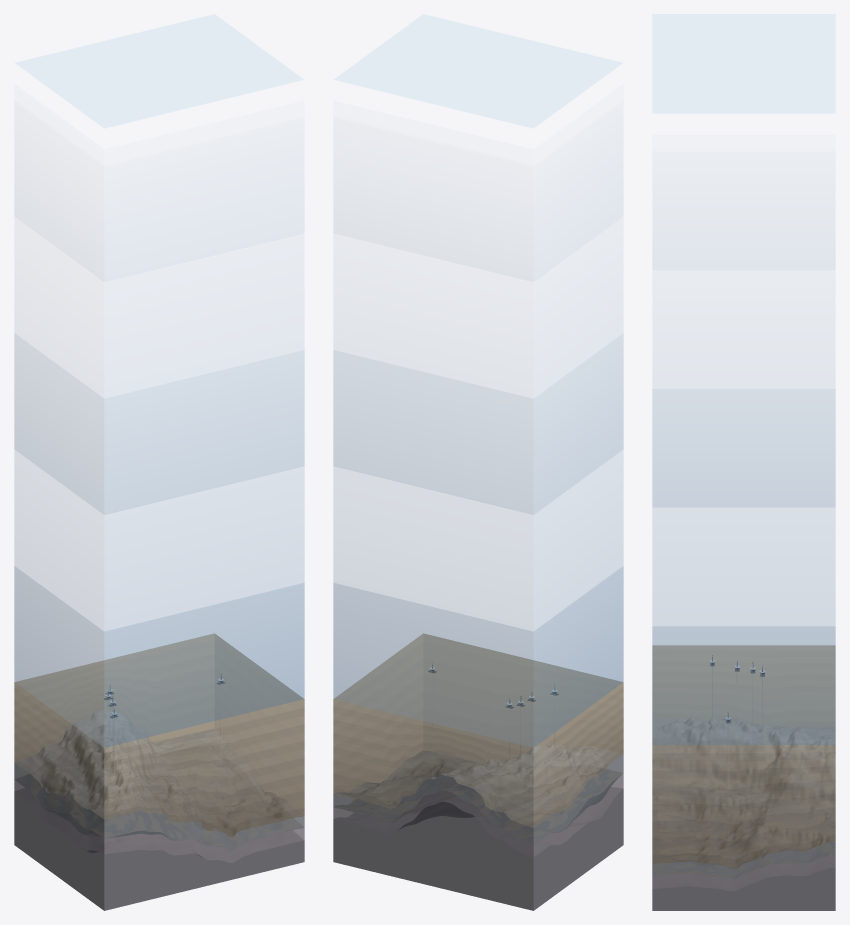
File: Exaggerated_seafloor_v6.glb
3 renders of one model, left to right at view 1: azimuth 30°, elevation 25°; view 2: azimuth 150°, elevation 25°; view 3: azimuth 270°, elevation 25°, orthographic.
Visible parts, largest first — view 1: water_column, sediment_volume, basement_top, sea_surface, 5_Undifferentiated_basalt, 1_Upper_pillow_basalt, 4_Lower_pillow_basalt; view 2: water_column, sediment_volume, sea_surface, 5_Undifferentiated_basalt, basement_top, 1_Upper_pillow_basalt, 4_Lower_pillow_basalt; view 3: water_column, sediment_volume, basement_top, sea_surface, 5_Undifferentiated_basalt, 4_Lower_pillow_basalt, 1_Upper_pillow_basalt.
Part boxes in pixels (box(x1,y1,x2,y2)): water_column: box(14, 334, 304, 747); sediment_volume: box(14, 633, 304, 837); basement_top: box(15, 709, 303, 837); sea_surface: box(16, 14, 303, 127); 5_Undifferentiated_basalt: box(14, 791, 304, 910); 1_Upper_pillow_basalt: box(14, 762, 304, 850); 4_Lower_pillow_basalt: box(14, 779, 304, 862); water_column: box(333, 334, 623, 747); sediment_volume: box(333, 633, 623, 827); sea_surface: box(334, 14, 621, 127); 5_Undifferentiated_basalt: box(333, 789, 623, 910); basement_top: box(334, 744, 622, 827); 1_Upper_pillow_basalt: box(333, 754, 623, 844); 4_Lower_pillow_basalt: box(333, 773, 623, 856); water_column: box(652, 389, 835, 744); sediment_volume: box(652, 645, 835, 868); basement_top: box(652, 717, 835, 868); sea_surface: box(653, 14, 834, 112); 5_Undifferentiated_basalt: box(652, 867, 835, 910); 4_Lower_pillow_basalt: box(652, 855, 835, 890); 1_Upper_pillow_basalt: box(652, 841, 835, 878).
Size of the model in its own units: 4500 by 16800 by 3500.
Materials: 59 (30 with a texture image).
